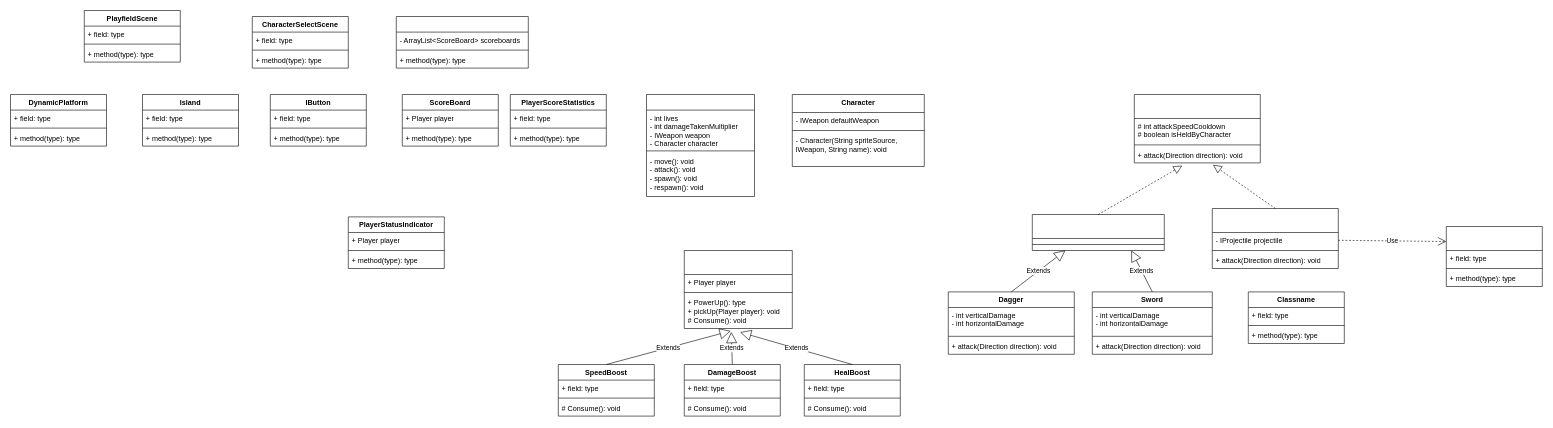
Some shapes in this 1553 by 428 pixel diagram are drawn without their labels. The box of each missing label's shape, as (x1, y1, x2, y2) in pixels:
<<abstract>> Melee: (1032, 214, 1164, 250)
<<abstract>> PowerUp: (684, 250, 792, 328)
<<abstract>> ProjectileWeapon: (1212, 208, 1338, 268)
<<interface>> IProjectile: (1446, 226, 1542, 286)
<<interface>> IWeapon: (1134, 94, 1260, 163)
EndScene: (396, 16, 528, 68)
Player: (646, 94, 754, 196)
